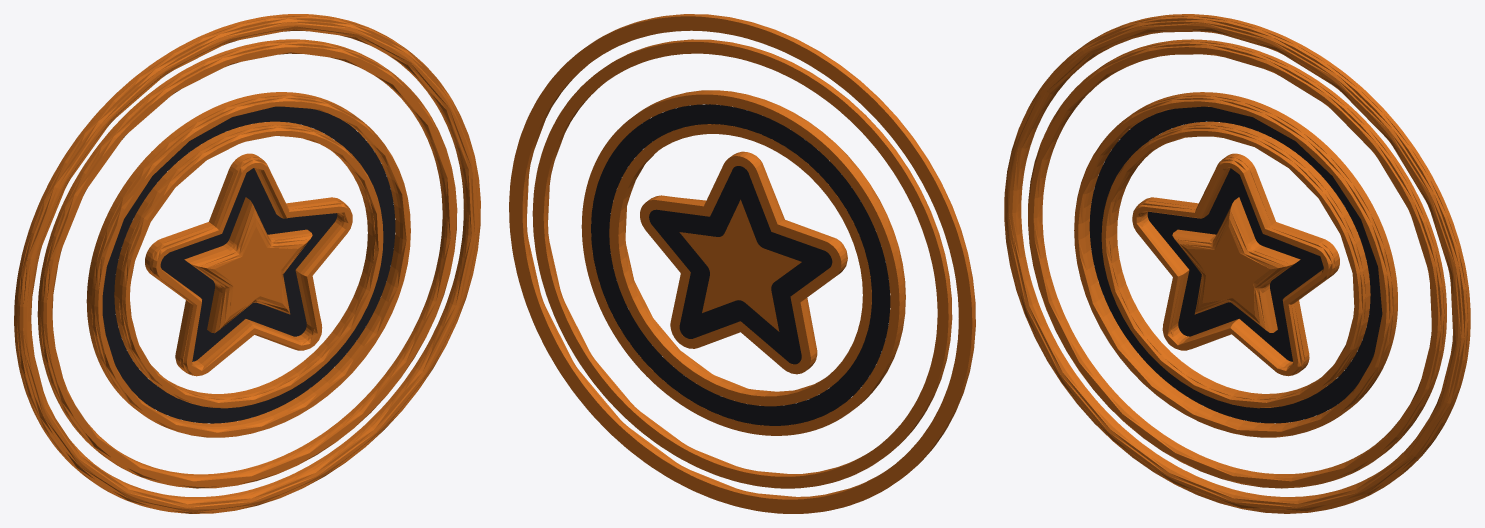
The model's file is perfect_cycles_t1.glb.
3 renders of one model, left to right at view 1: azimuth 30°, elevation 25°; view 2: azimuth 150°, elevation 25°; view 3: azimuth 330°, elevation 25°, orthographic.
Visible parts, largest first — view 1: mark, lines, mark_channel; view 2: lines, mark, mark_channel; view 3: mark, lines, mark_channel.
Part boxes in pixels (x1,y1,x2,y2): mark: (86,92,410,437); lines: (14,14,480,513); mark_channel: (102,106,395,423); lines: (509,14,975,513); mark: (581,90,905,435); mark_channel: (591,104,890,425); mark: (1074,92,1397,437); lines: (1004,14,1470,513); mark_channel: (1089,106,1382,423).
Bounding box in the file's own units: 0.758 × 0.758 × 0.03.
